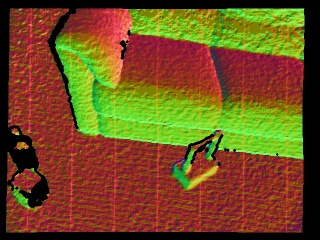station: (171, 130, 224, 192)
